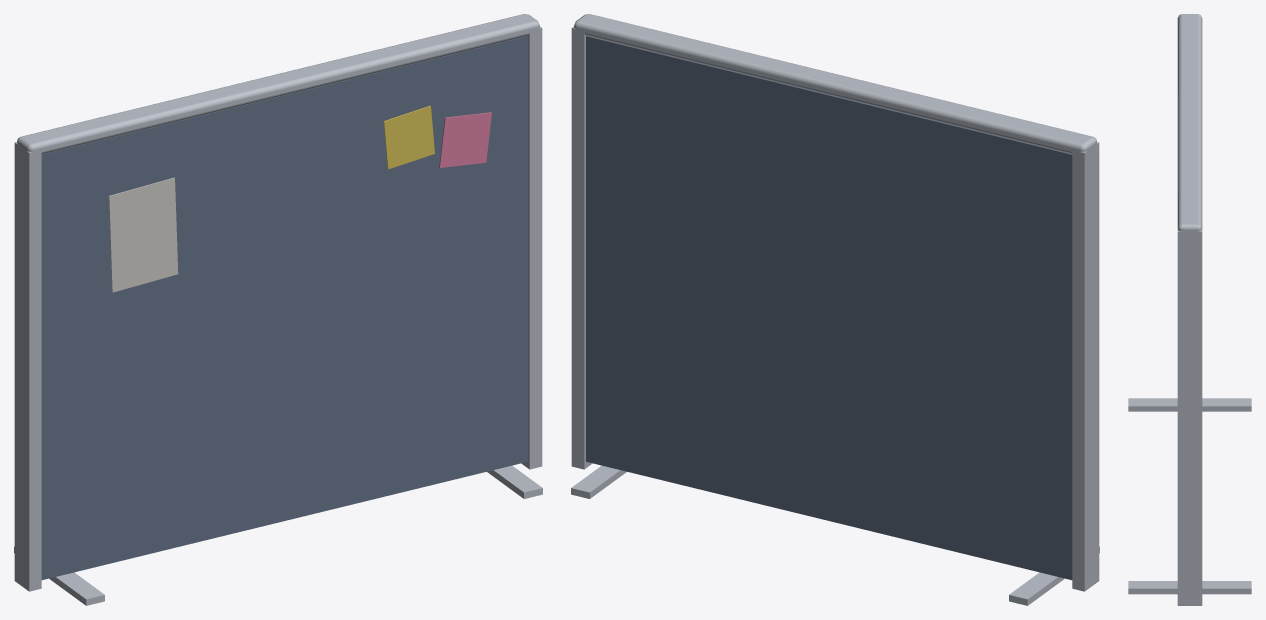
The model's file is cubicle_wall.glb.
3 views of the same model, side by side, from view 1: azimuth 30°, elevation 25°; view 2: azimuth 150°, elevation 25°; view 3: azimuth 270°, elevation 25° (orthographic). The views are drawn at different scales.
Visible parts, largest first — view 1: main; view 2: main; view 3: main.
Part boxes in pixels (x1,y1,x2,y2): main: (14,14,542,605); main: (571,14,1099,605); main: (1128,14,1251,605).
Bounding box in the file's own units: 1.64 × 1.36 × 0.4.
